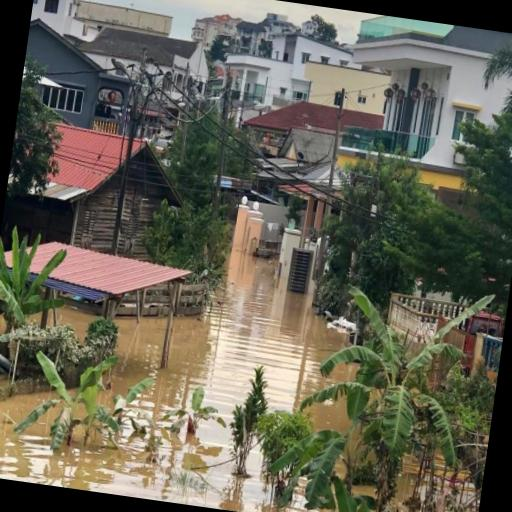flood: (111, 254, 345, 417), (0, 394, 232, 509), (218, 451, 316, 512), (46, 307, 96, 346), (305, 396, 351, 432), (324, 362, 360, 388), (396, 473, 417, 503), (0, 315, 8, 337)
house: (343, 12, 512, 177), (38, 124, 186, 260), (18, 16, 112, 128), (240, 90, 385, 152), (82, 24, 214, 86), (286, 33, 353, 90), (238, 14, 298, 66), (276, 124, 338, 170), (188, 7, 240, 49), (31, 0, 85, 18)
